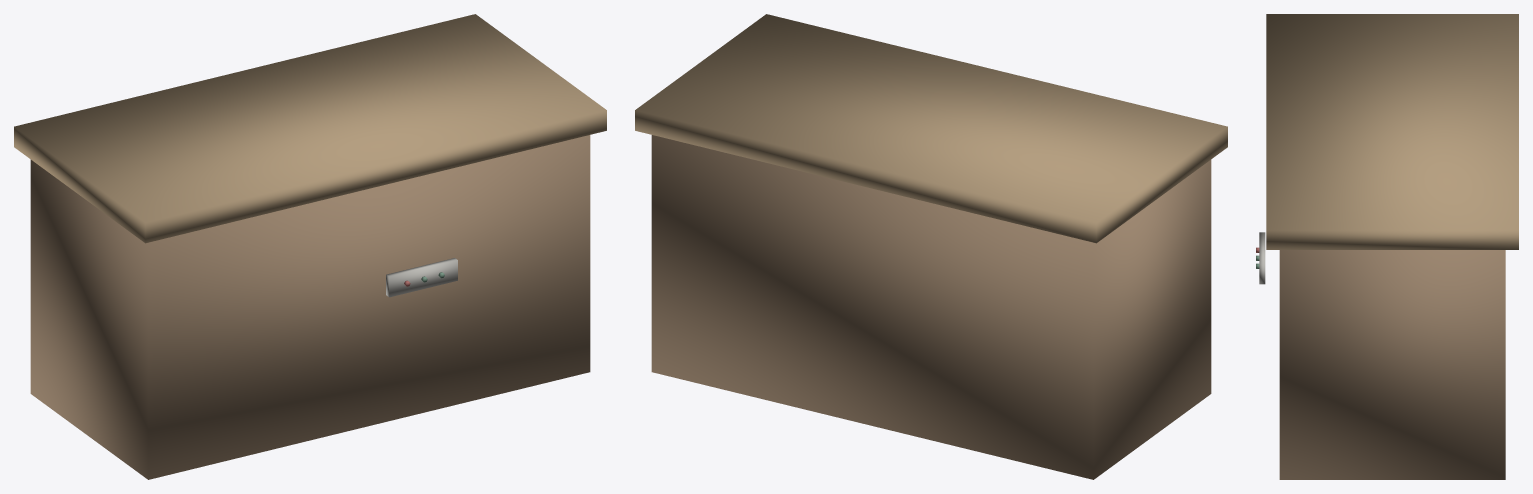
File: hotel_reception_counter__deep.glb
3 views of the same model, side by side, from view 1: azimuth 30°, elevation 25°; view 2: azimuth 150°, elevation 25°; view 3: azimuth 270°, elevation 25° (orthographic). The views are drawn at different scales.
Parts seen in each view (by area): view 1: world; view 2: world; view 3: world.
Part boxes in pixels (bbox=[...]): world: bbox=[14, 14, 606, 479]; world: bbox=[635, 14, 1227, 479]; world: bbox=[1256, 14, 1518, 479].
Size of the model in its own units: 1.88 by 1.03 by 0.965.
